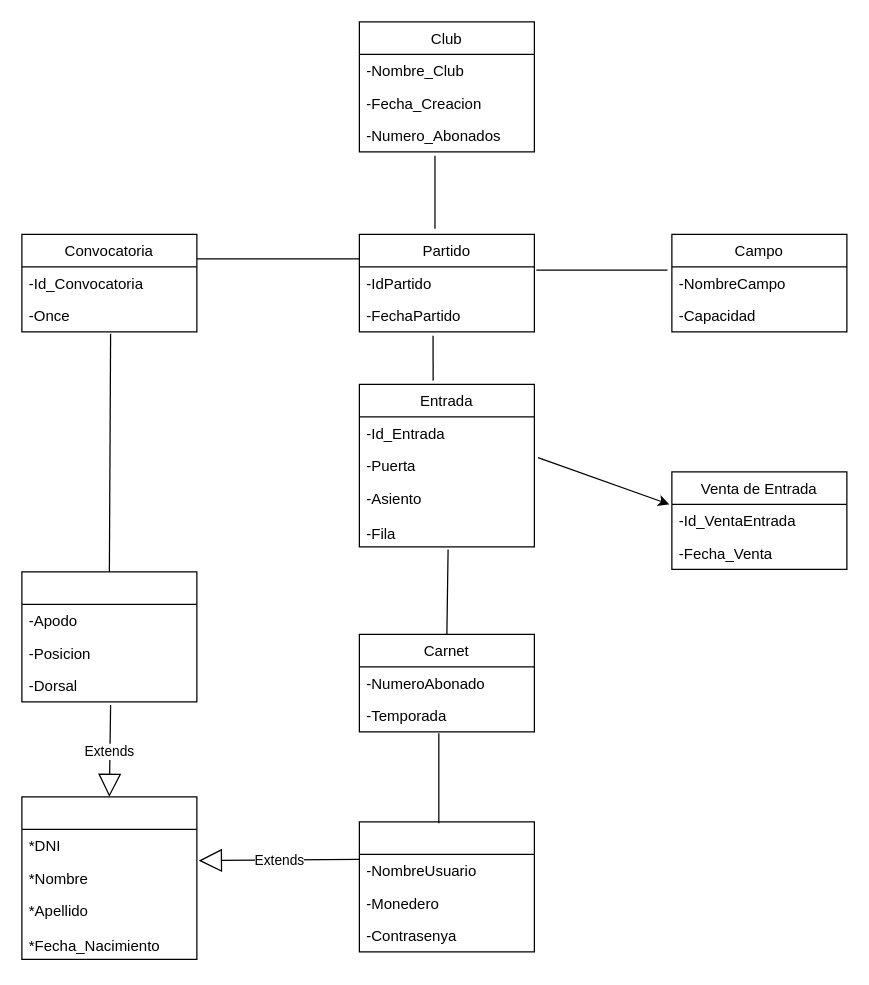
Image size: 869x985. Some labels were removed from this diagram. Each missing label, with the box of its shape:
Jugador: (21, 571, 197, 702)
Persona: (21, 796, 197, 959)
Socio: (358, 821, 534, 952)
